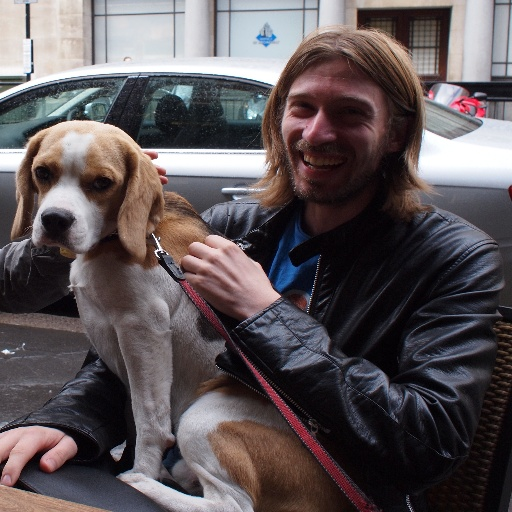hand: (183, 233, 278, 324), (2, 421, 88, 484), (142, 149, 168, 185)
